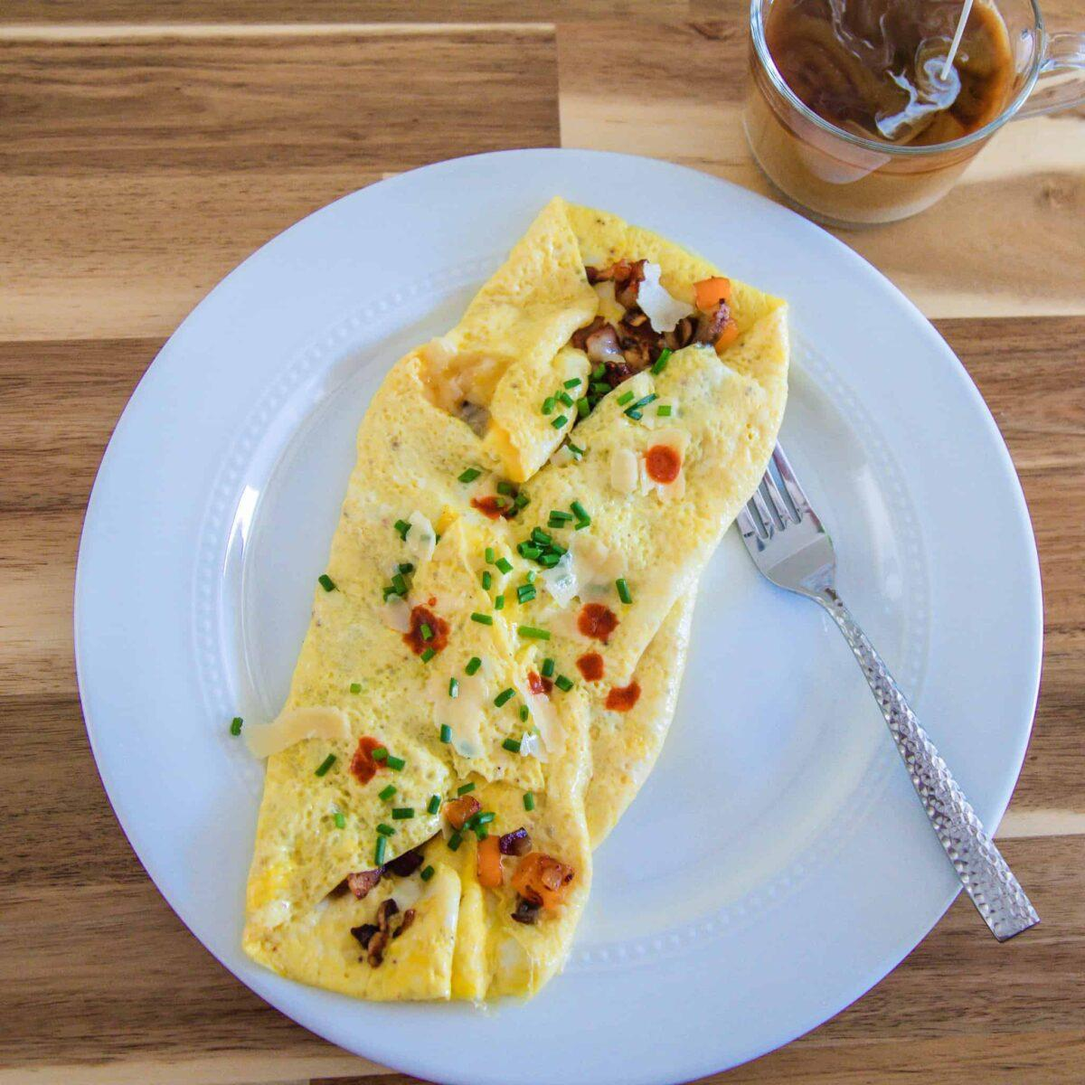omelette: (281, 236, 724, 995)
